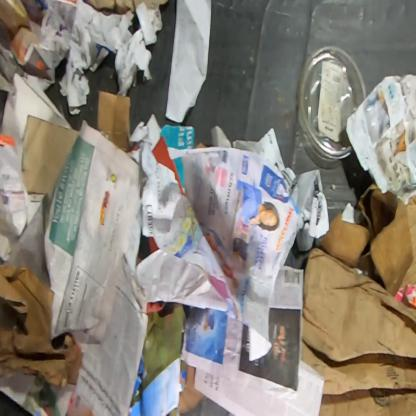cardboard: (301, 247, 415, 415), (320, 183, 415, 298), (0, 264, 84, 389), (22, 114, 82, 202), (97, 90, 132, 154), (178, 364, 208, 414)
rigid_plastic: (296, 45, 366, 162)
